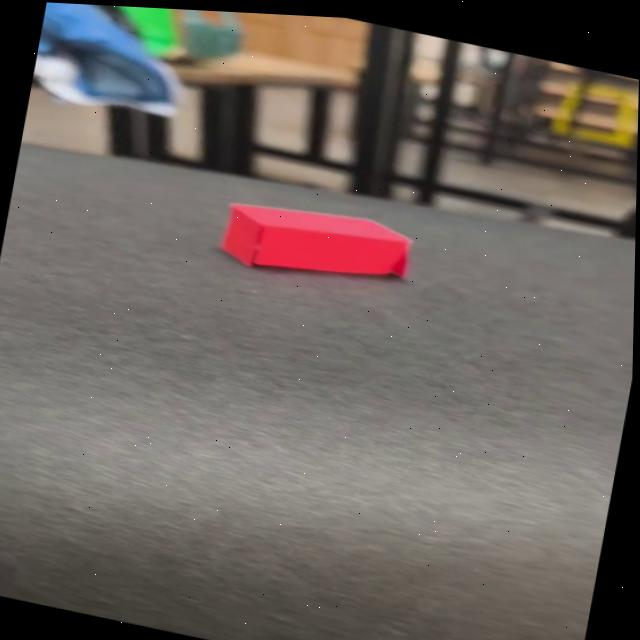red block: (216, 187, 416, 300)
